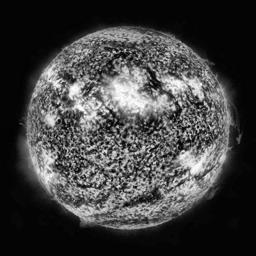solar flares: (105, 79, 146, 120), (175, 148, 208, 174), (75, 100, 98, 122), (162, 75, 187, 92), (145, 94, 167, 111), (67, 81, 83, 99), (188, 79, 202, 99), (43, 112, 55, 124)
sunspots: (140, 118, 167, 135), (142, 71, 161, 94), (131, 190, 166, 202), (100, 122, 128, 137), (189, 100, 207, 118), (60, 112, 78, 127), (169, 98, 179, 122), (118, 50, 135, 62), (175, 137, 188, 150), (62, 71, 75, 83), (100, 62, 112, 74)
